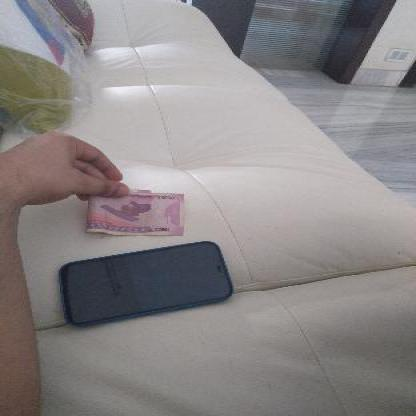New2000Back: (89, 187, 194, 237)
